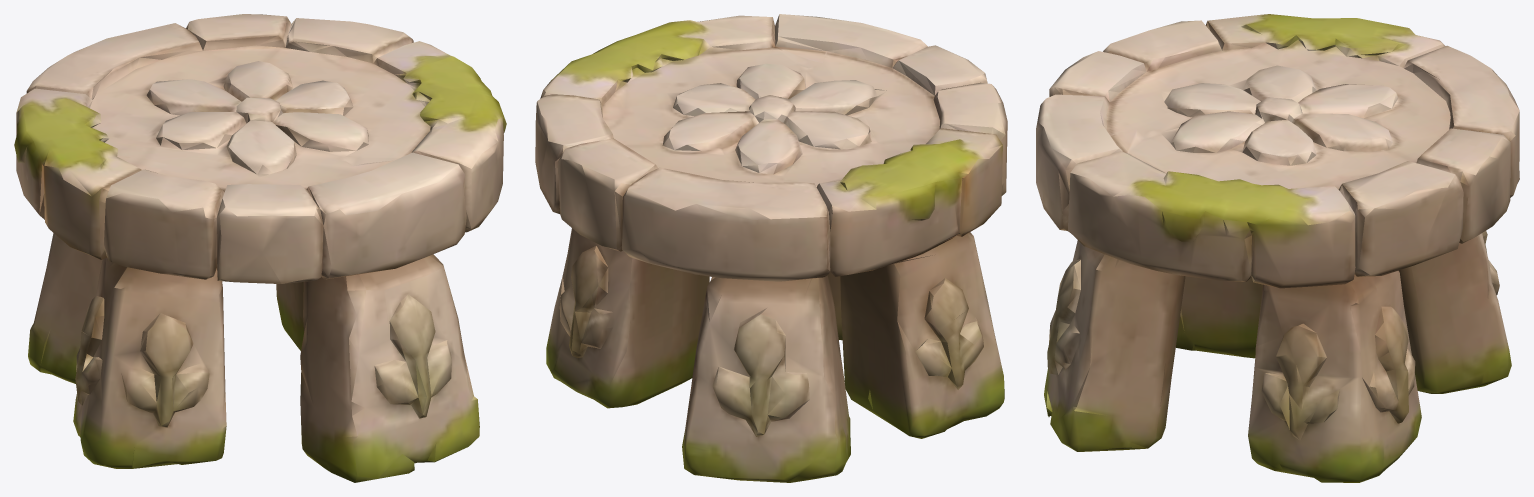
File: table15.glb
3 renders of one model, left to right at view 1: azimuth 30°, elevation 25°; view 2: azimuth 150°, elevation 25°; view 3: azimuth 270°, elevation 25°, orthographic. The views are drawn at different scales.
Size of the model in its own units: 0.2139 by 0.1434 by 0.213.
1 material, 1 textured.
